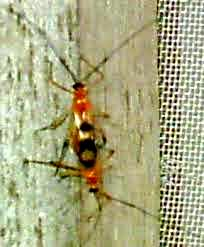Helopeltis-insect: (65, 82, 104, 167), (77, 155, 106, 202)
